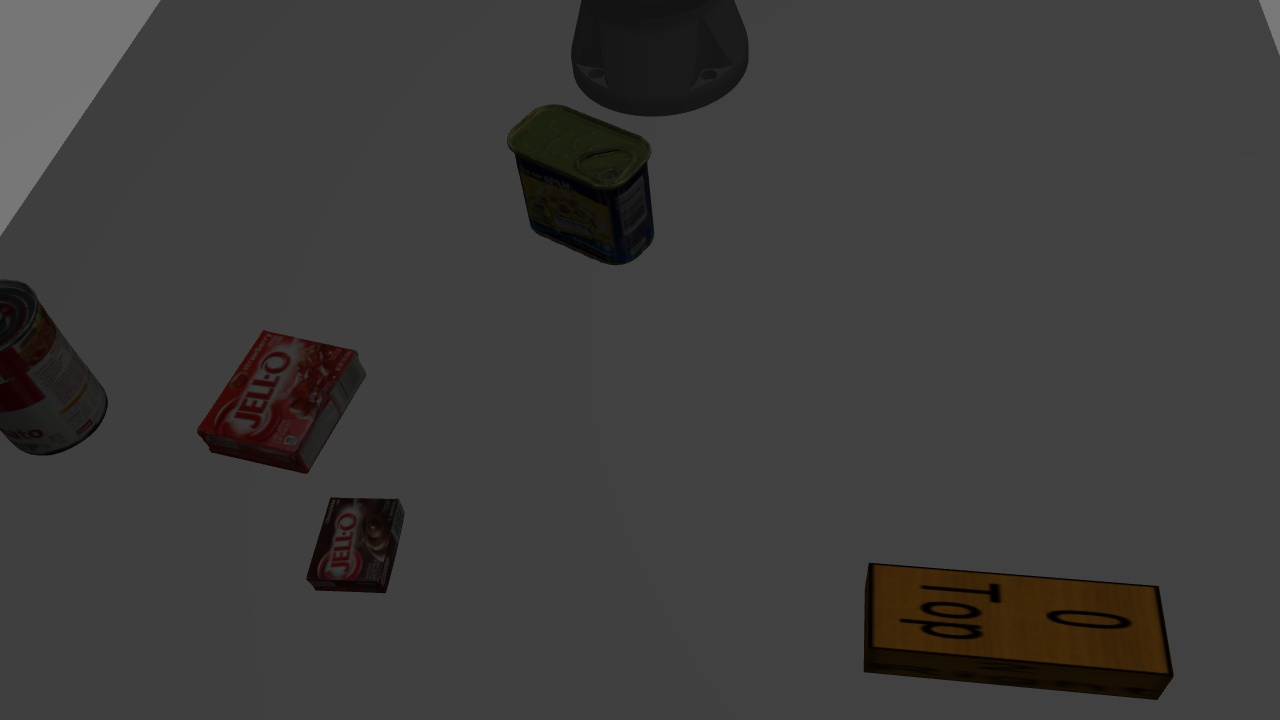gelatin_box: (194, 321, 367, 462)
jenga: (861, 556, 1174, 708)
potted_meat_can: (506, 102, 658, 266)
pudding_box: (305, 490, 406, 598)
tomato_soup_can: (1, 277, 125, 470)
